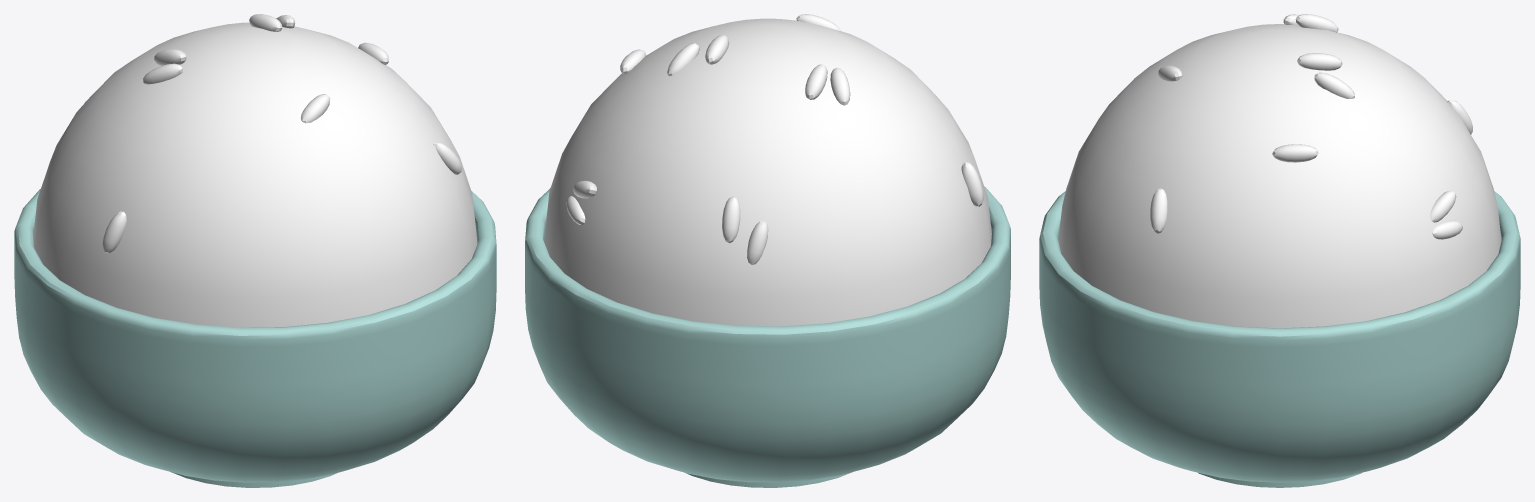
File: cooked_rice.glb
3 renders of one model, left to right at view 1: azimuth 30°, elevation 25°; view 2: azimuth 150°, elevation 25°; view 3: azimuth 270°, elevation 25°, orthographic.
Parts seen in each view (by area): view 1: Cube.418; view 2: Cube.418; view 3: Cube.418.
Boxes of the visible parts, left/top/right/bottom form: Cube.418: left=14, top=14, right=496, bottom=487; Cube.418: left=525, top=14, right=1010, bottom=487; Cube.418: left=1039, top=14, right=1520, bottom=487.
Size of the model in its own units: 2.21 by 2.03 by 2.21.
Materials: 1 (1 with a texture image).
